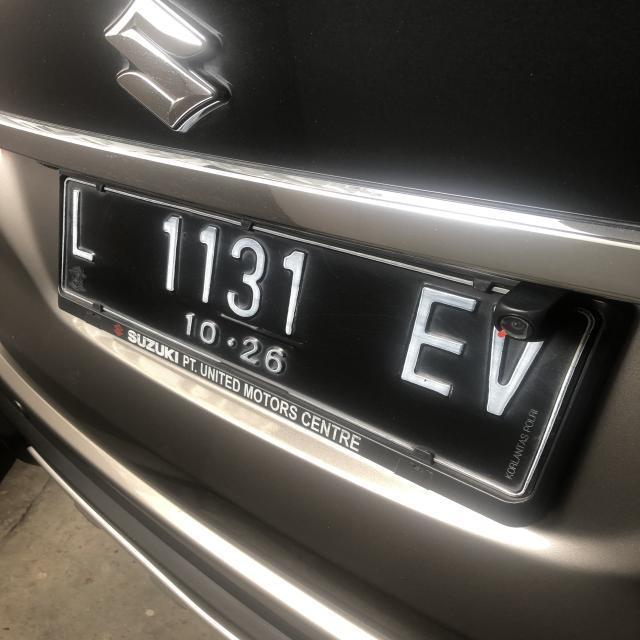1: (277, 247, 318, 341), (156, 212, 188, 296), (192, 222, 224, 304)
3: (223, 230, 270, 322)
E: (397, 284, 478, 398)
L: (67, 188, 101, 268)
V: (478, 298, 554, 420)
